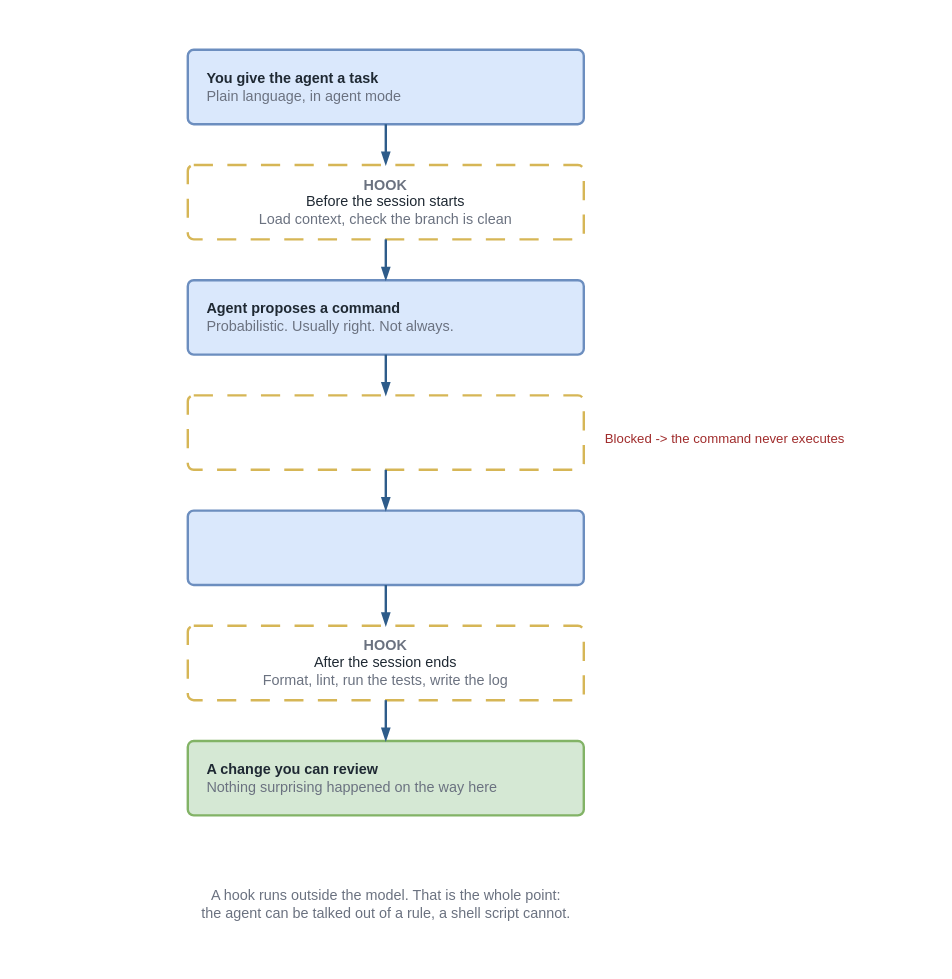
Image size: 952x979. Some labels were removed from this diagram. Each missing label, with the centre of its shape:
HOOK Before the tool runs Deterministic. Same input, same answer, every time.: (385,432)
The command runs Only what survived the gate: (385,547)
